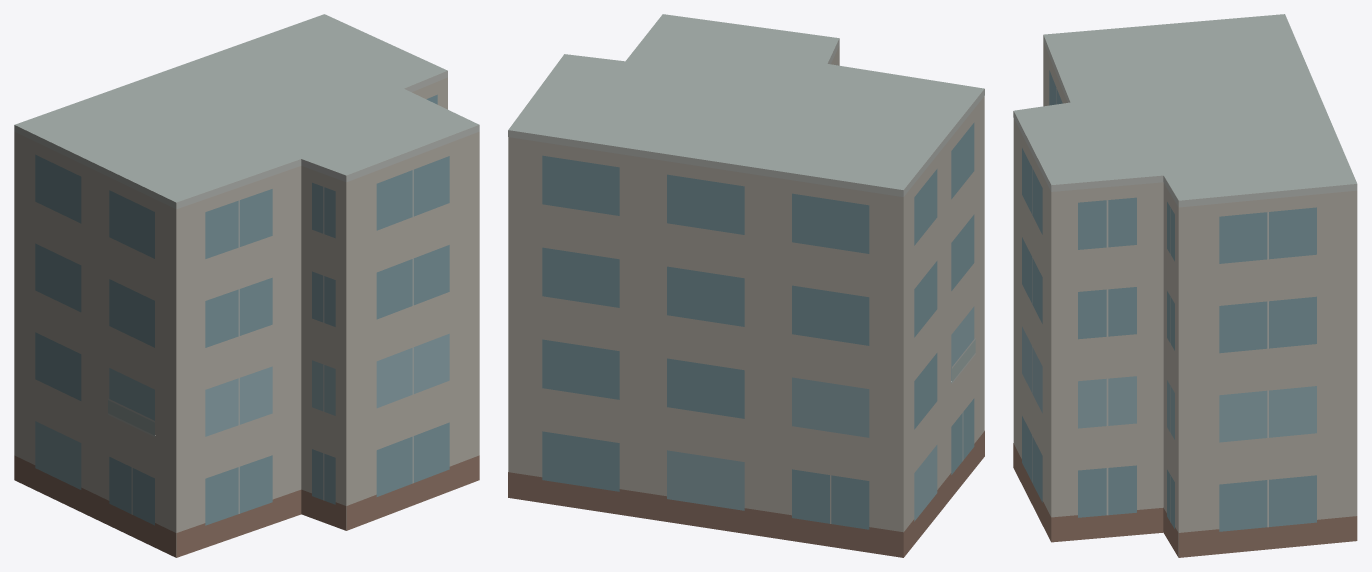
Rendered from survey-upis-32745547.glb.
3 renders of one model, left to right at view 1: azimuth 30°, elevation 25°; view 2: azimuth 150°, elevation 25°; view 3: azimuth 270°, elevation 25°, orthographic. The views are drawn at different scales.
Visible parts, largest first — view 1: survey-upis-32745547.tmp; view 2: survey-upis-32745547.tmp; view 3: survey-upis-32745547.tmp.
Boxes of the visible parts, x1,y1,x2,y2 form: survey-upis-32745547.tmp: (14,14,479,557); survey-upis-32745547.tmp: (508,14,984,557); survey-upis-32745547.tmp: (1013,14,1357,557).
Size of the model in its own units: 14.42 by 12.85 by 11.22.
